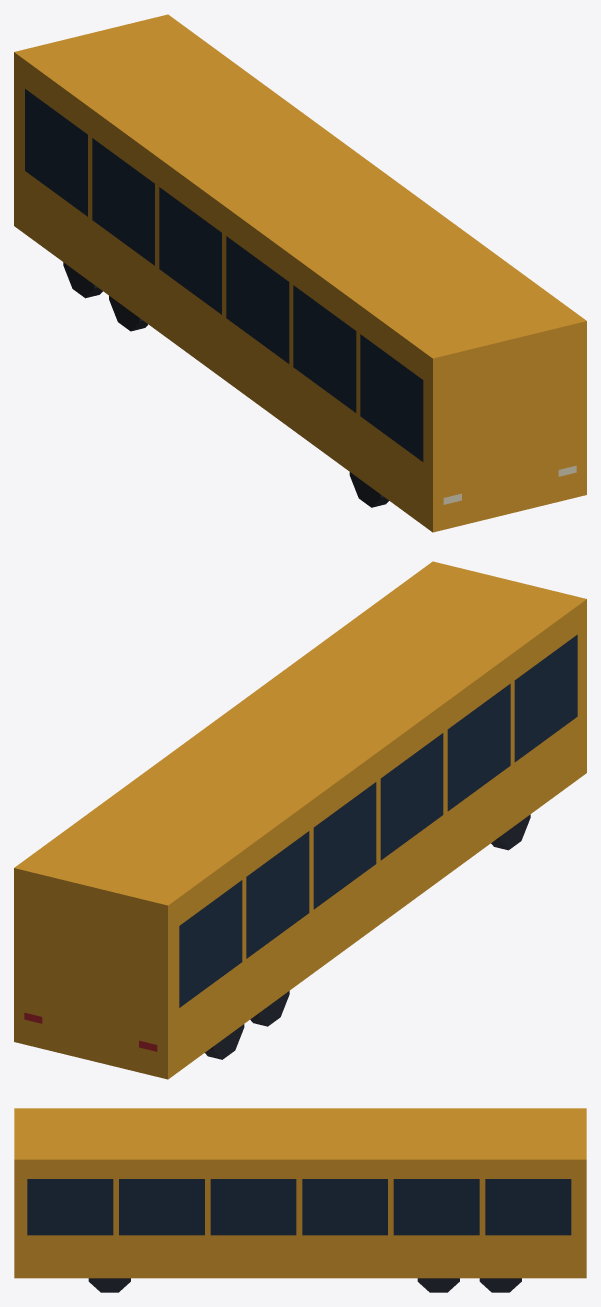
The model's file is bus.glb.
The picture shows the model from 3 angles, top to bottom: view 1: azimuth 30°, elevation 25°; view 2: azimuth 150°, elevation 25°; view 3: azimuth 270°, elevation 25°; orthographic projection. The views are drawn at different scales.
Bounding box in the file's own units: 2.55 × 3.1 × 12.02.
